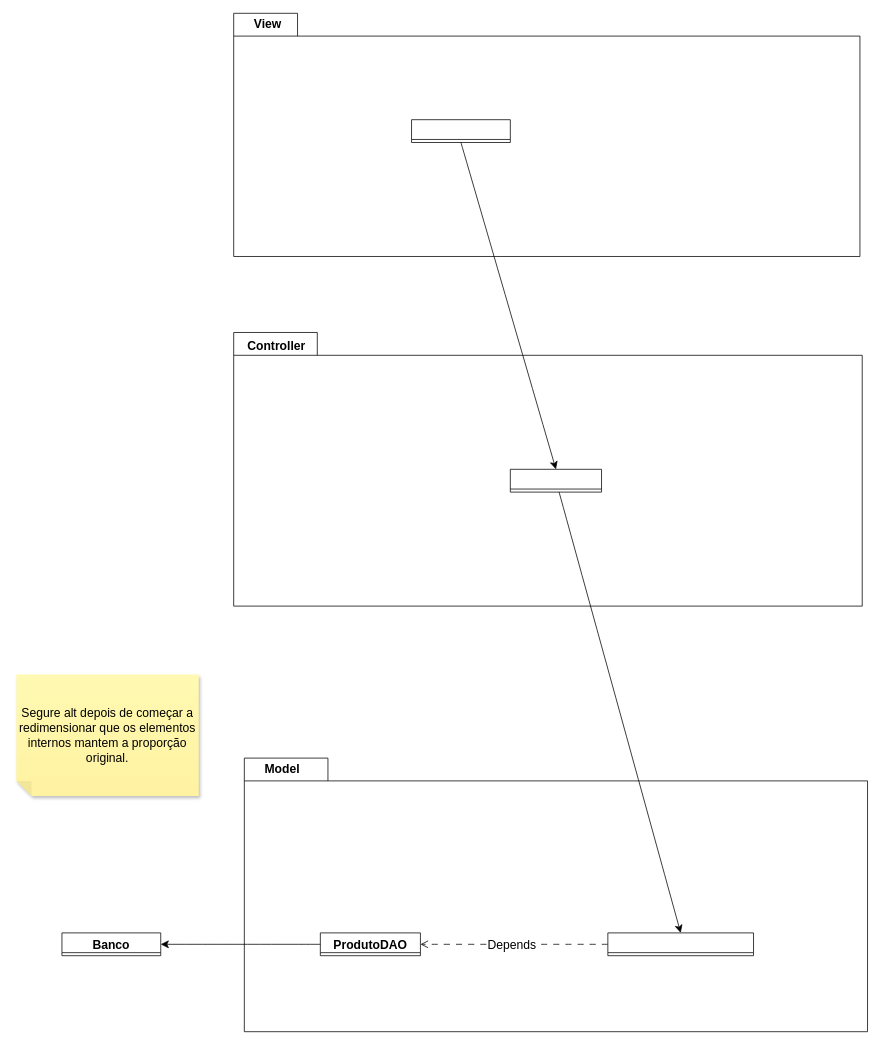
The diagram is 881 pixels wide and 1045 high, and some of its shapes have lost their labels. The centre of each missing label's shape, as x and y in pixels:
"CRUD" belongs at point (556, 480).
"Janela" belongs at point (460, 130).
"Produto" belongs at point (680, 944).
